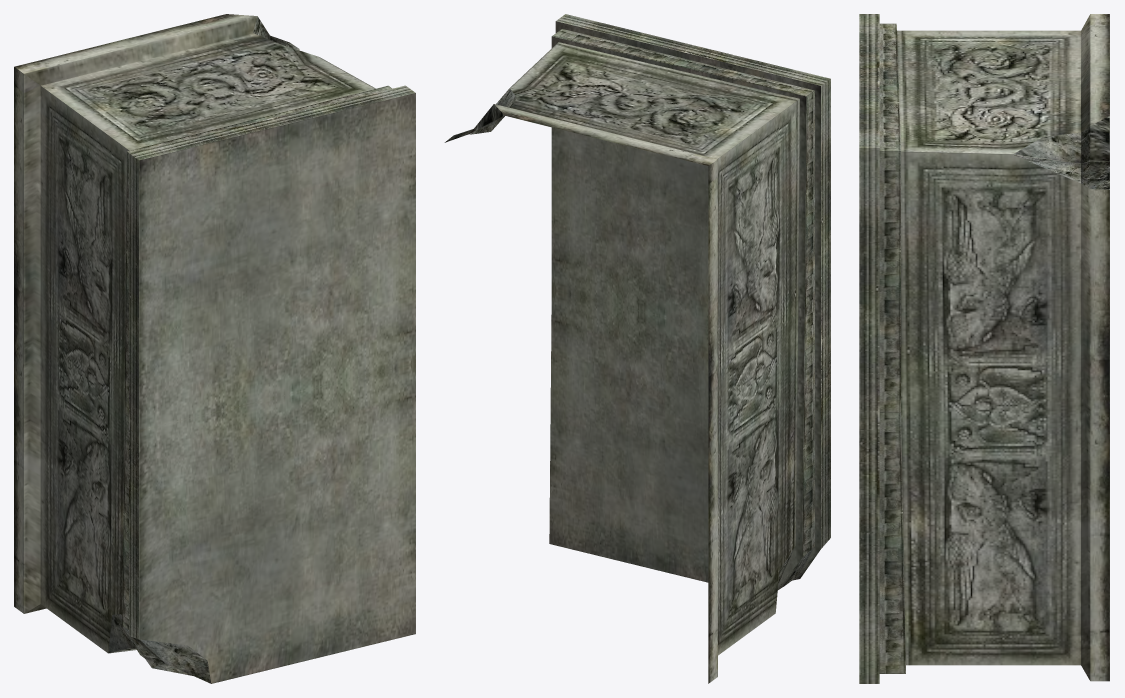
Rendered from prop_crypt1.glb.
3 renders of one model, left to right at view 1: azimuth 30°, elevation 25°; view 2: azimuth 150°, elevation 25°; view 3: azimuth 270°, elevation 25°, orthographic. The views are drawn at different scales.
Size of the model in its own units: 71.37 by 134 by 56.52.
Materials: 1 (1 with a texture image).
